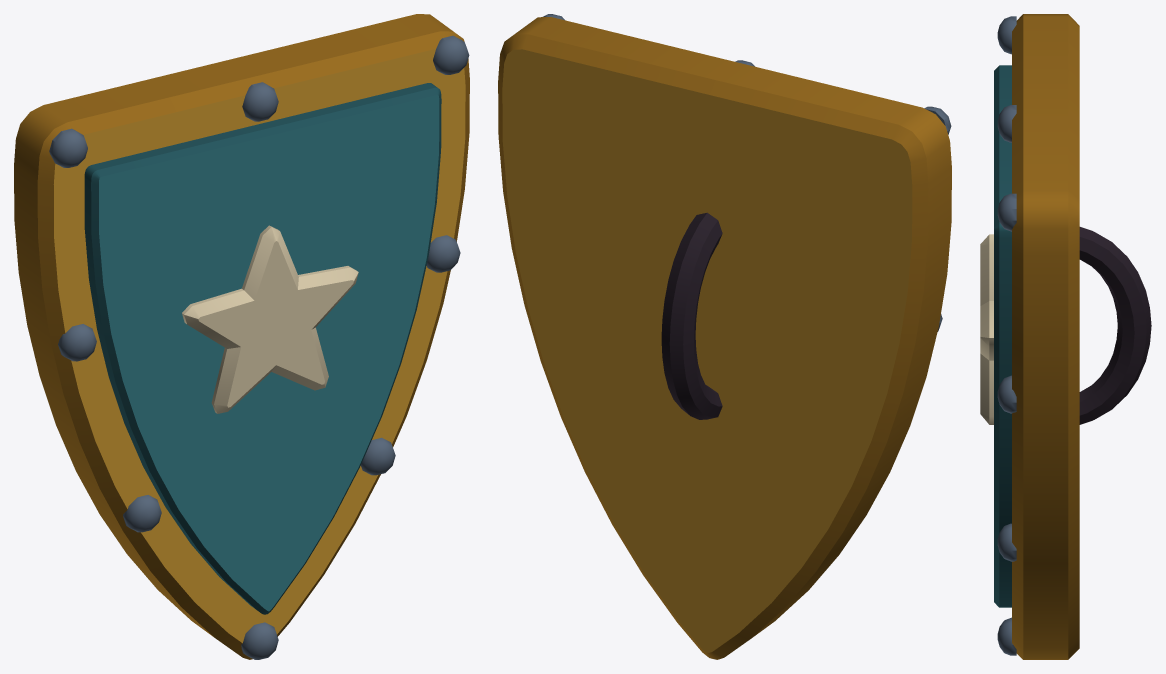
The model's file is HeaterShield_12.glb.
3 views of the same model, side by side, from view 1: azimuth 30°, elevation 25°; view 2: azimuth 150°, elevation 25°; view 3: azimuth 270°, elevation 25° (orthographic). The views are drawn at different scales.
Parts seen in each view (by area): view 1: HeaterShield_12; view 2: HeaterShield_12; view 3: HeaterShield_12.
Part boxes in pixels (x1,y1,x2,y2): HeaterShield_12: [14, 14, 469, 659]; HeaterShield_12: [498, 14, 951, 659]; HeaterShield_12: [980, 14, 1151, 659].
Size of the model in its own units: 2.11 by 2.72 by 0.76.
